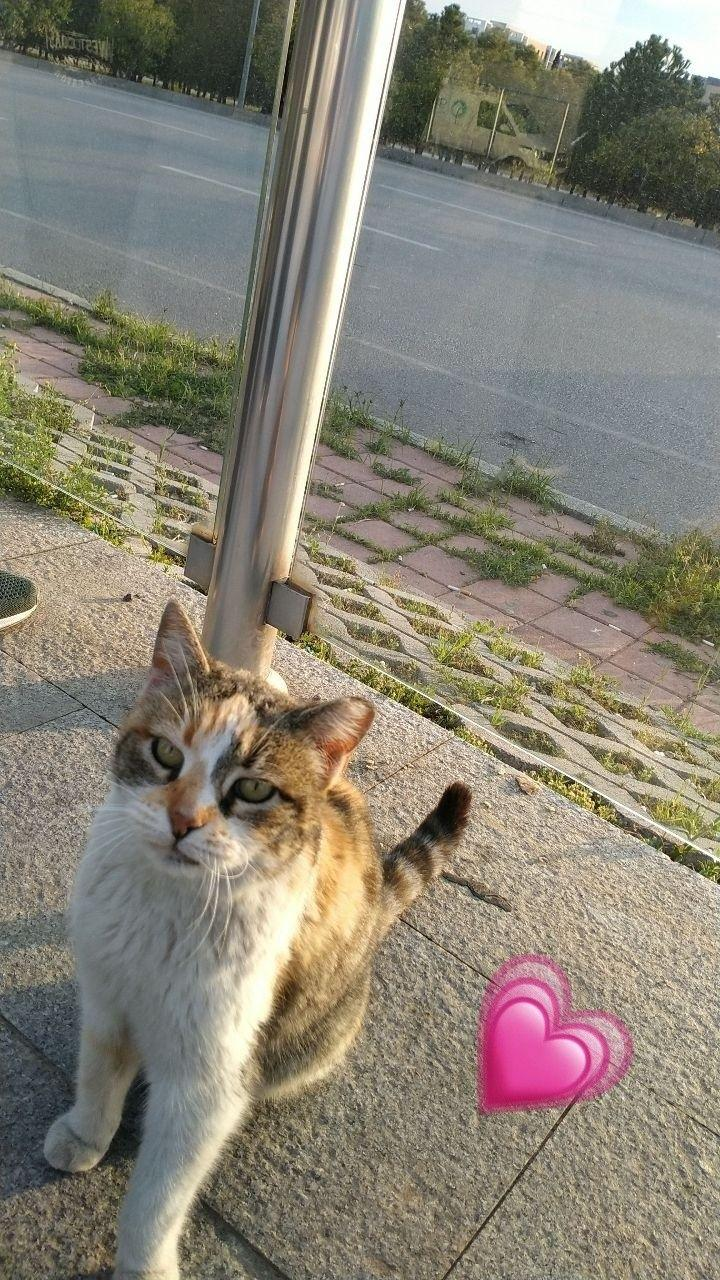kedo: (50, 600, 469, 1276)
